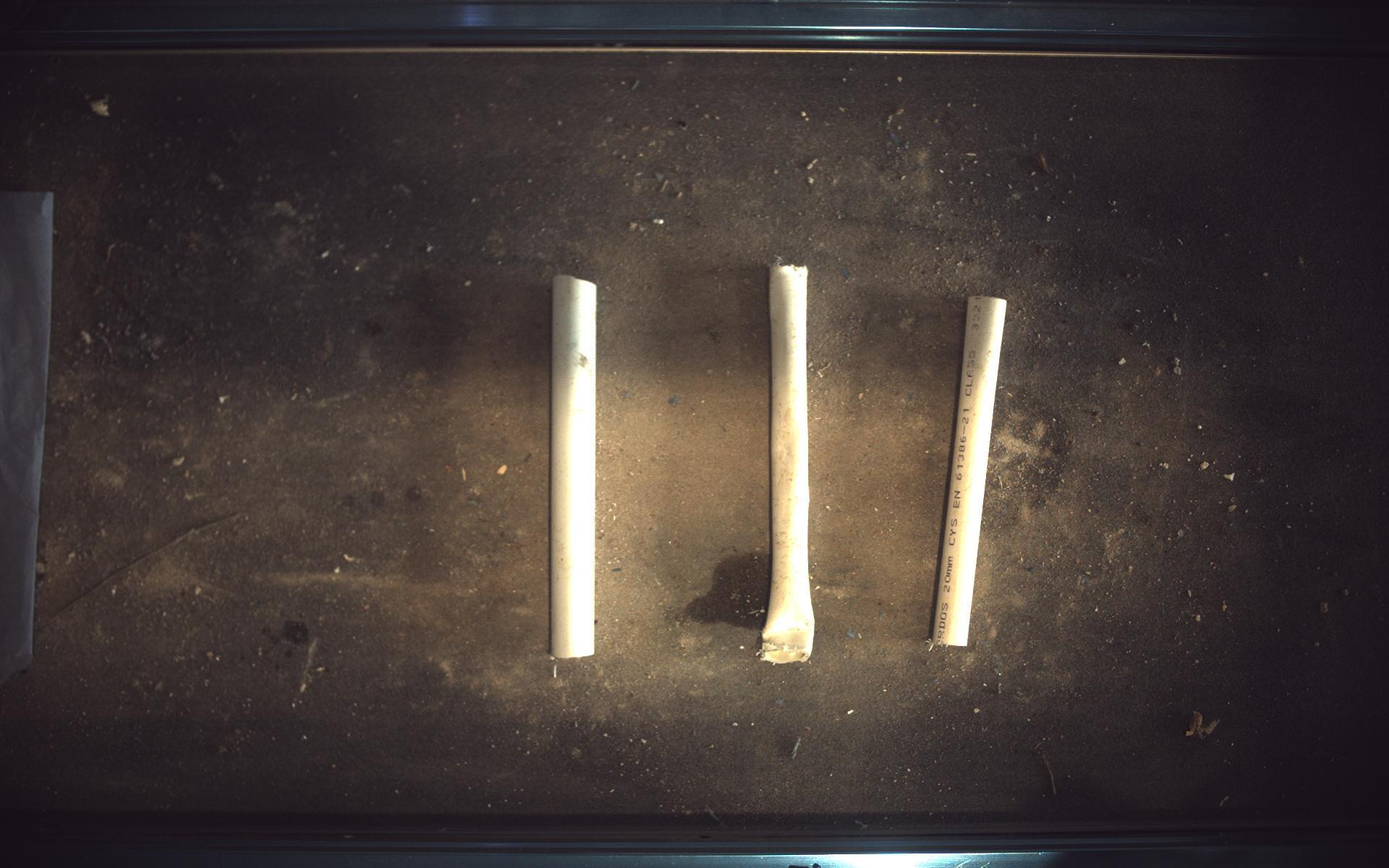pipes: (933, 296, 1008, 647), (762, 264, 817, 664), (551, 274, 598, 659)
